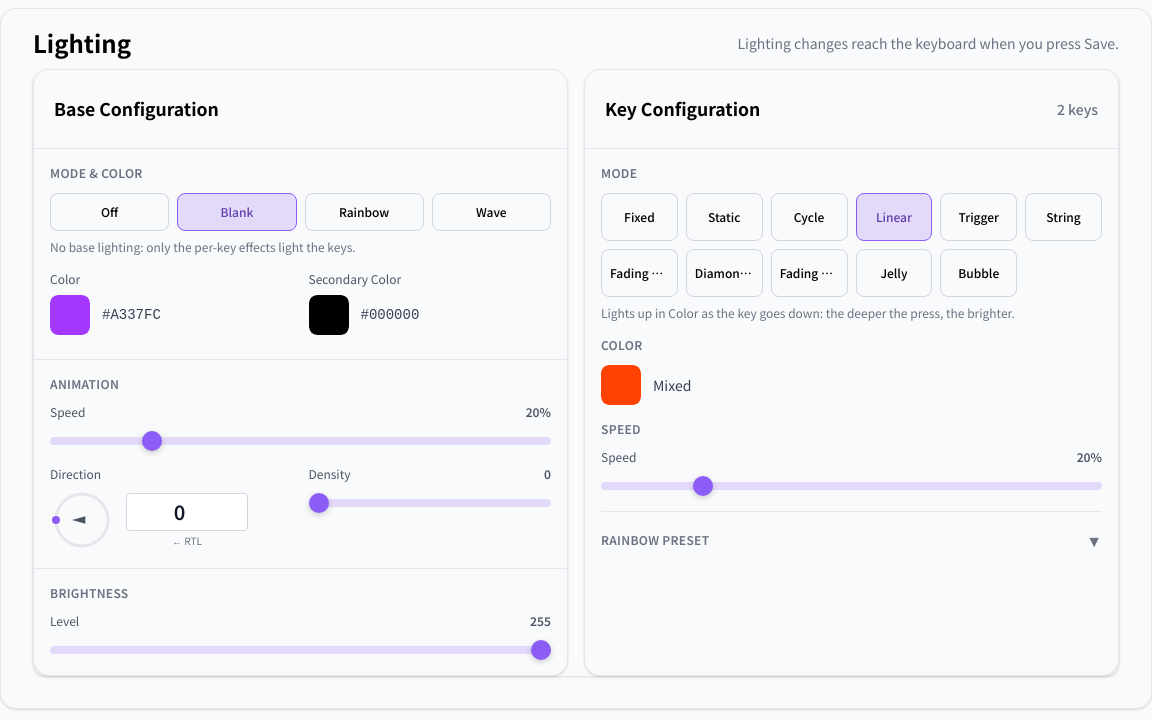
Test: LightingPage › edits the selected keys only
Click the button "Jelly" at (894, 273), box top-left (856, 249), bottom-right (932, 297)
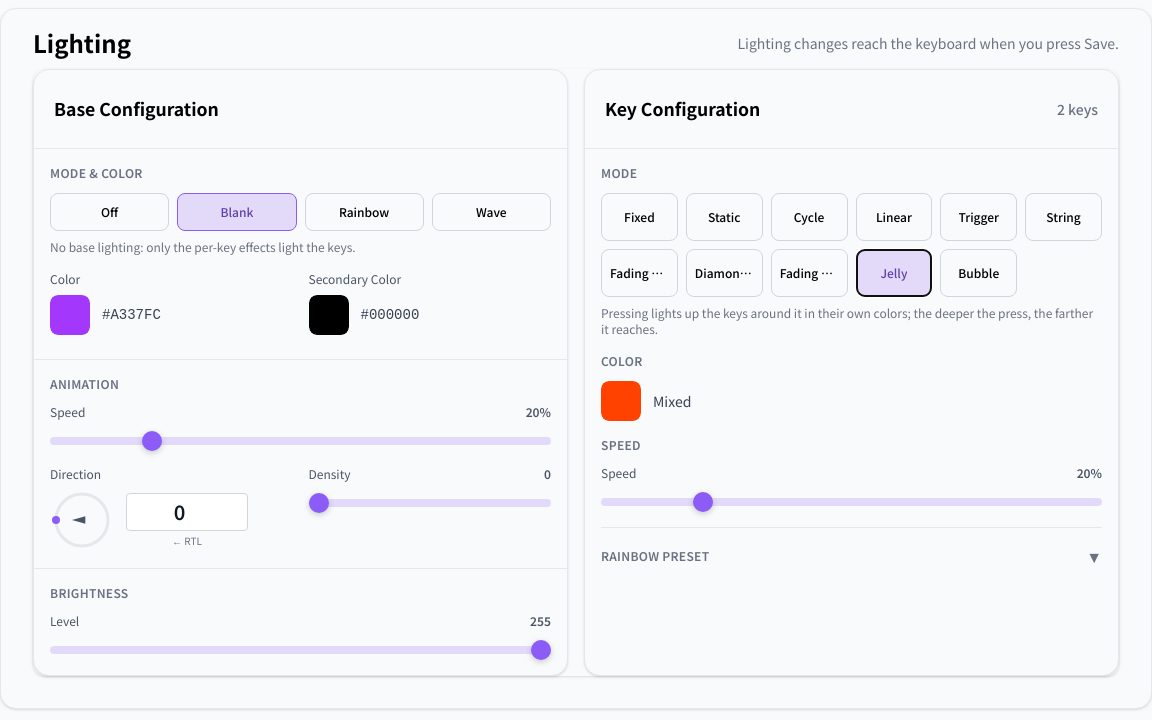
Type "#123456" into the colour field named "Color" at (621, 401), box top-left (601, 381), bottom-right (641, 421)
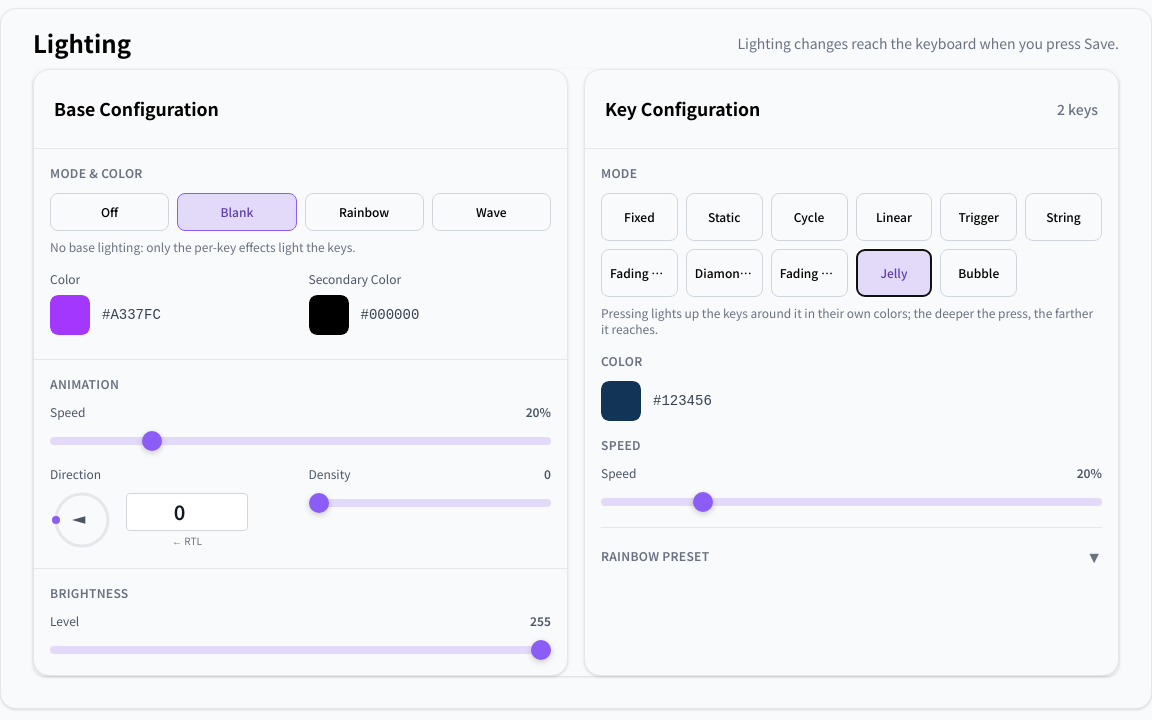
expect the text "Mixed" is gone: met
